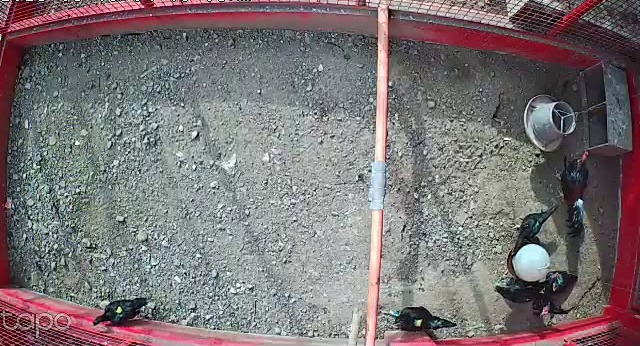Chicken: (381, 301, 456, 338), (91, 294, 149, 331), (495, 275, 554, 306), (545, 266, 582, 294)
Rooster: (552, 149, 595, 239)
Saddle_Color_Green: (558, 276, 563, 283)
Saddle_Color_Yellow: (114, 306, 123, 315)
Saddle_Color_YellowGreen: (413, 317, 423, 328)
